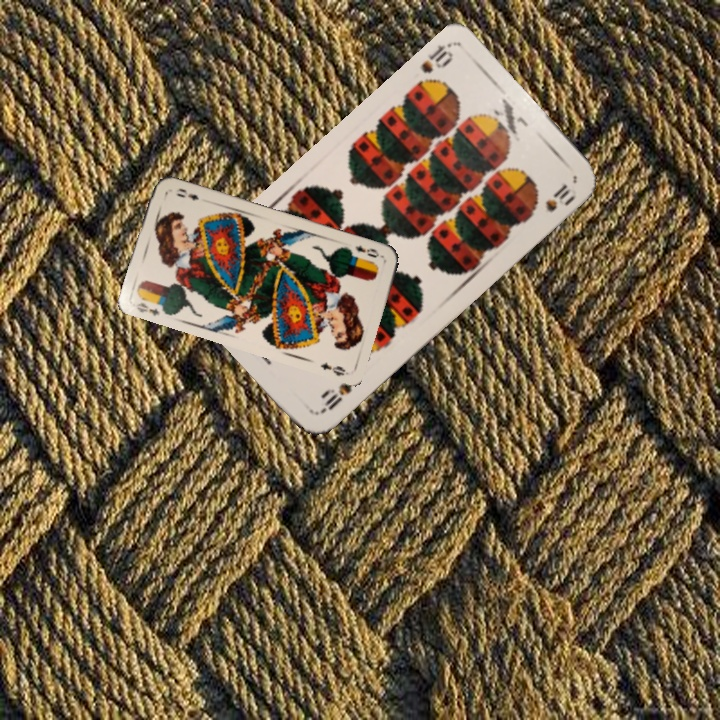EO: (351, 241, 386, 260), (131, 298, 162, 318)
S10: (313, 378, 355, 417), (417, 40, 456, 76)
